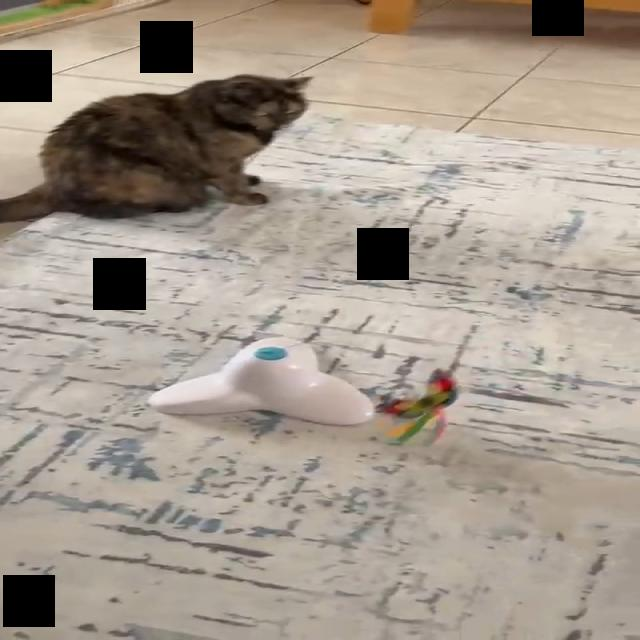authorized: (0, 72, 313, 223)
